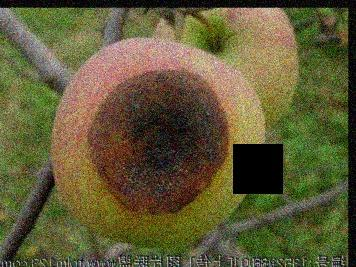rotten apple: (49, 37, 269, 246)
